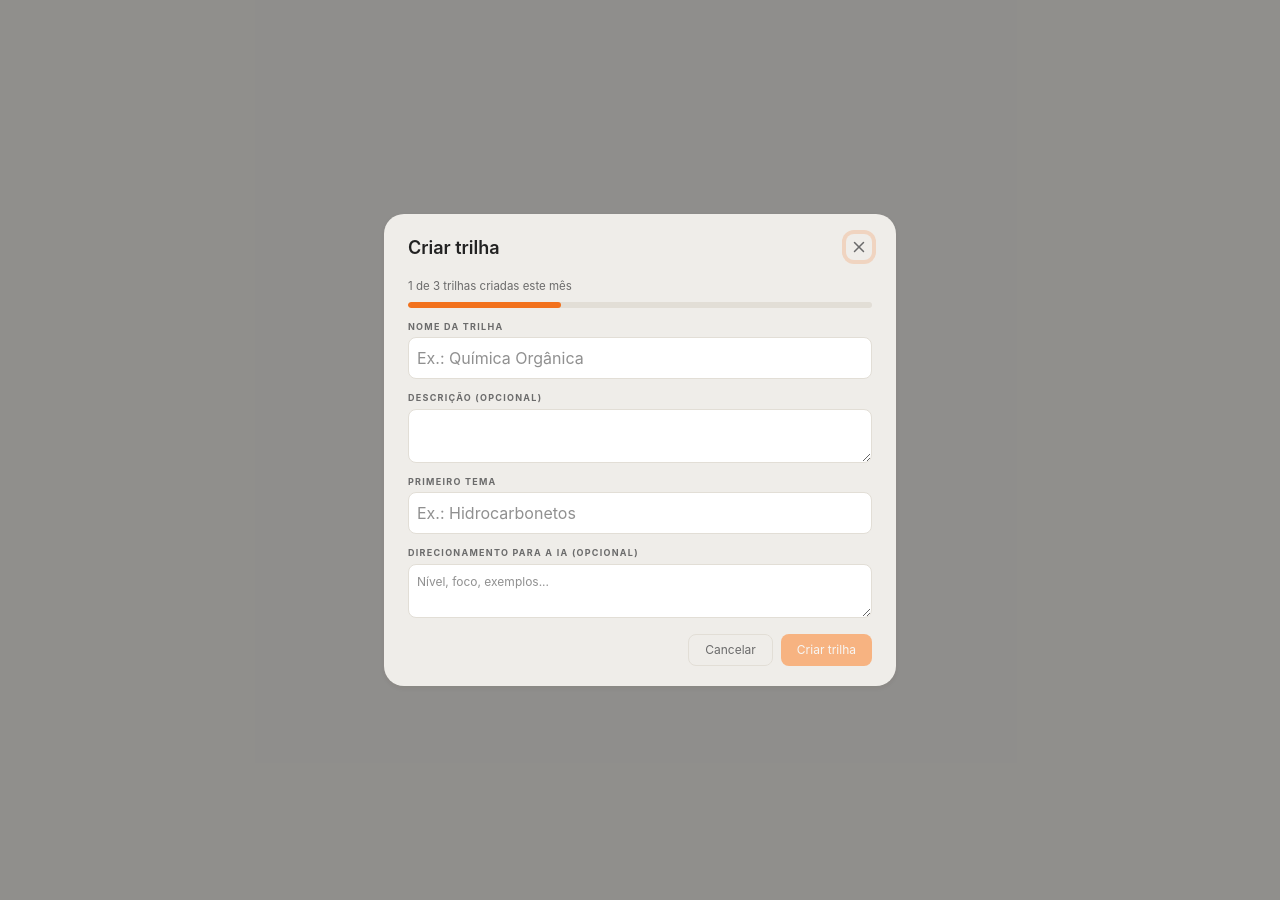
Test case: CriarTrilhaModal › trilha igual: avisa, lista a existente e não cria nada ainda
The width and height of the screenshot is (1280, 900).
Type "Química" into the field labelled "Nome da trilha" at point(640, 358), box [408,337,872,379]
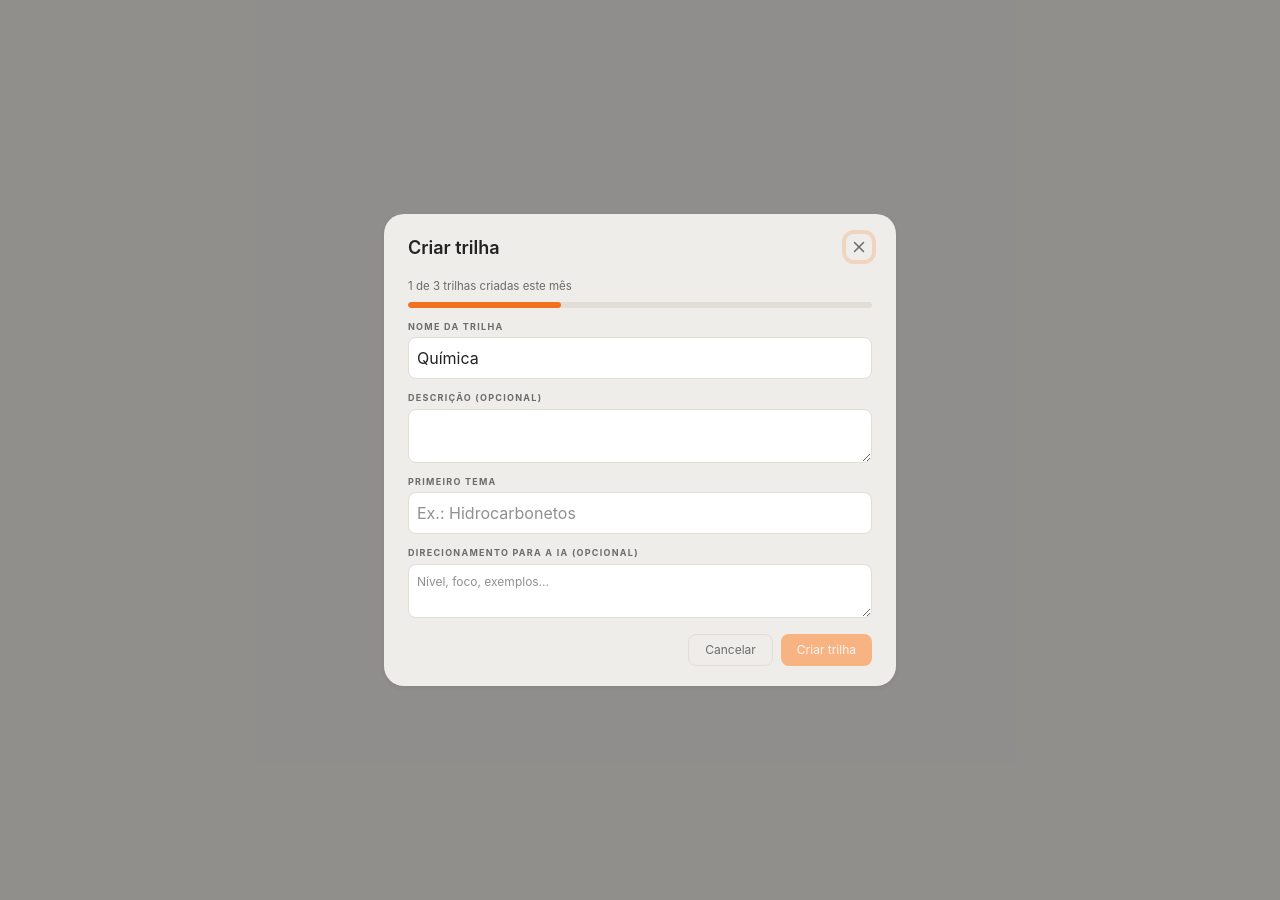
Type "Alcanos" into the field labelled "Primeiro tema" at point(640, 513), box [408,492,872,534]
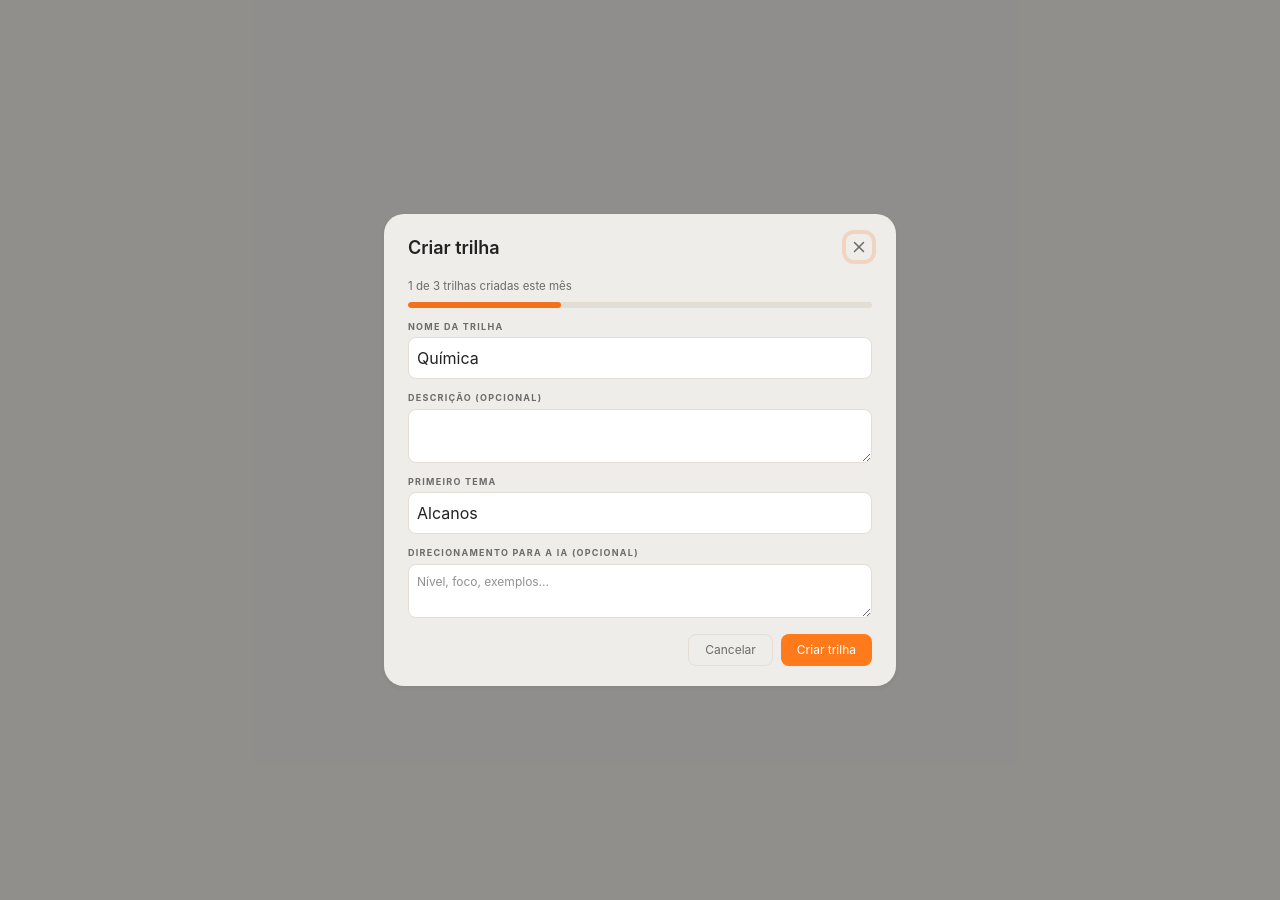
Click the button "Criar trilha" at point(826, 650), box [781,634,872,666]
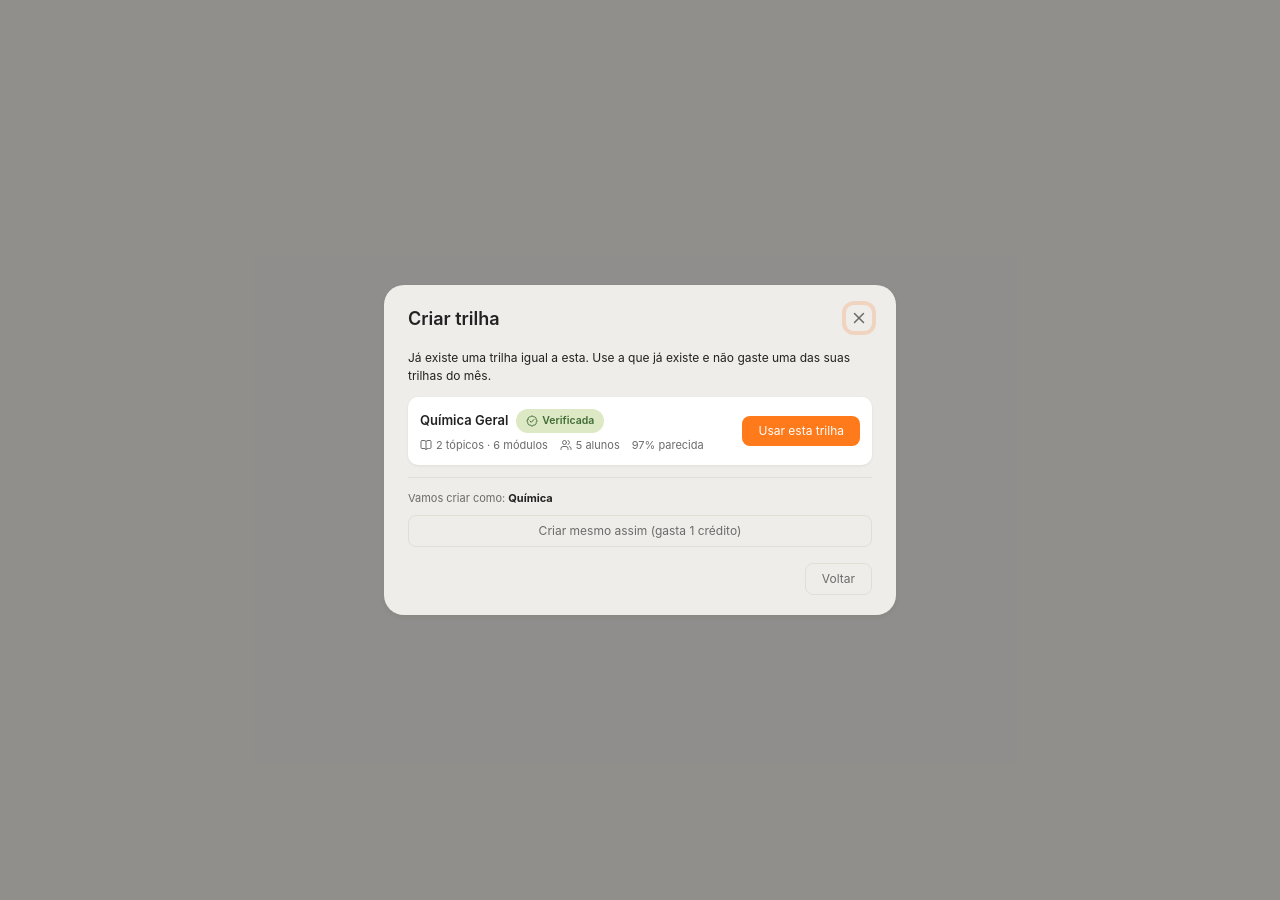
expect the text "Já existe uma trilha igual" is shown: met, box [408,350,850,383]
expect the heading "Química Geral" is shown: met, box [420,411,508,431]
expect the text "97% parecida" is shown: met, box [632,437,704,453]
